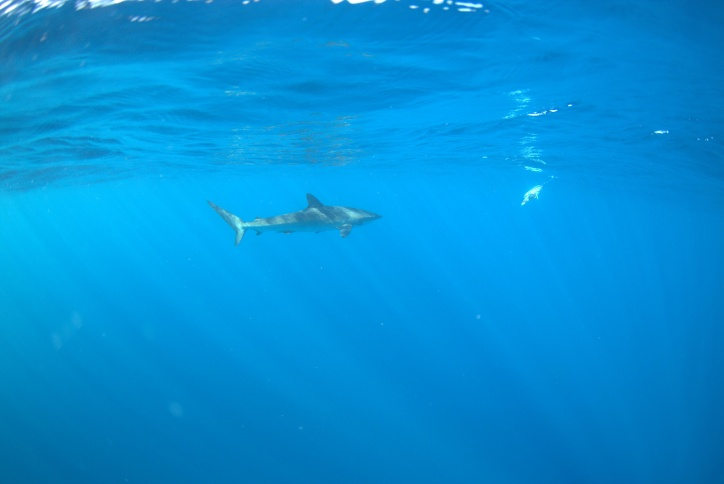Sedoso: (171, 181, 390, 251)
